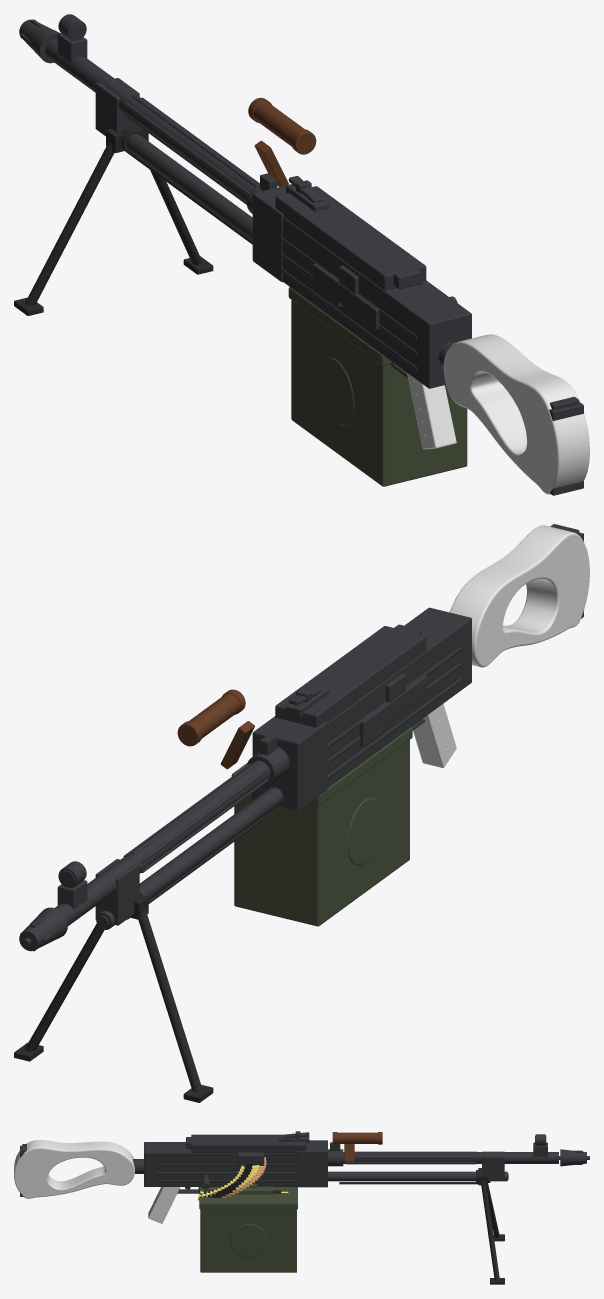
File: bixi.fbx
The picture shows the model from 3 angles, top to bottom: view 1: azimuth 30°, elevation 25°; view 2: azimuth 150°, elevation 25°; view 3: azimuth 270°, elevation 25°; orthographic projection. The views are drawn at different scales.
Parts seen in each view (by area): view 1: Bixi_Receiver_Group, Bixi_Ammo_Can, Bixi_Wood_Stock, Bixi_Fluted_Barrel_Gas, Bixi_Bipod_Assembly, Bixi_Carry_Handle, Bixi_Pistol_Grip, Bixi_Muzzle_FrontSight, Bixi_Stock_Fittings; view 2: Bixi_Receiver_Group, Bixi_Ammo_Can, Bixi_Fluted_Barrel_Gas, Bixi_Wood_Stock, Bixi_Bipod_Assembly, Bixi_Muzzle_FrontSight, Bixi_Carry_Handle, Bixi_Pistol_Grip; view 3: Bixi_Receiver_Group, Bixi_Ammo_Can, Bixi_Fluted_Barrel_Gas, Bixi_Wood_Stock, Bixi_Bipod_Assembly, Bixi_Carry_Handle, Bixi_Muzzle_FrontSight, Bixi_Pistol_Grip, Bixi_Ammo_Belt_Brass, Bixi_Belt_Links, Bixi_Ammo_Copper_Tips, Bixi_Stock_Fittings.
Part boxes in pixels (x1,y1,x2,y2): Bixi_Receiver_Group: (252,176,471,388); Bixi_Ammo_Can: (288,287,467,486); Bixi_Wood_Stock: (443,334,589,494); Bixi_Fluted_Barrel_Gas: (45,38,277,240); Bixi_Bipod_Assembly: (14,126,252,315); Bixi_Carry_Handle: (248,97,316,186); Bixi_Pistol_Grip: (407,373,456,449); Bixi_Muzzle_FrontSight: (19,14,87,63); Bixi_Stock_Fittings: (438,342,583,495); Bixi_Receiver_Group: (252,607,471,810); Bixi_Ammo_Can: (231,727,412,926); Bixi_Fluted_Barrel_Gas: (55,733,289,929); Bixi_Wood_Stock: (449,525,589,667); Bixi_Bipod_Assembly: (14,815,266,1102); Bixi_Muzzle_FrontSight: (19,861,87,951); Bixi_Carry_Handle: (177,689,254,769); Bixi_Pistol_Grip: (413,703,456,767); Bixi_Receiver_Group: (144,1131,327,1189); Bixi_Ammo_Can: (199,1184,297,1272); Bixi_Fluted_Barrel_Gas: (328,1142,558,1181); Bixi_Wood_Stock: (14,1140,134,1198); Bixi_Bipod_Assembly: (339,1168,504,1284); Bixi_Carry_Handle: (332,1132,382,1161); Bixi_Muzzle_FrontSight: (533,1134,589,1166); Bixi_Pistol_Grip: (148,1187,180,1223); Bixi_Ammo_Belt_Brass: (198,1165,288,1200); Bixi_Belt_Links: (201,1163,281,1197); Bixi_Ammo_Copper_Tips: (224,1157,266,1197); Bixi_Stock_Fittings: (20,1144,143,1196).
Size of the model in its own units: 0.274 by 0.3695 by 1.4.
